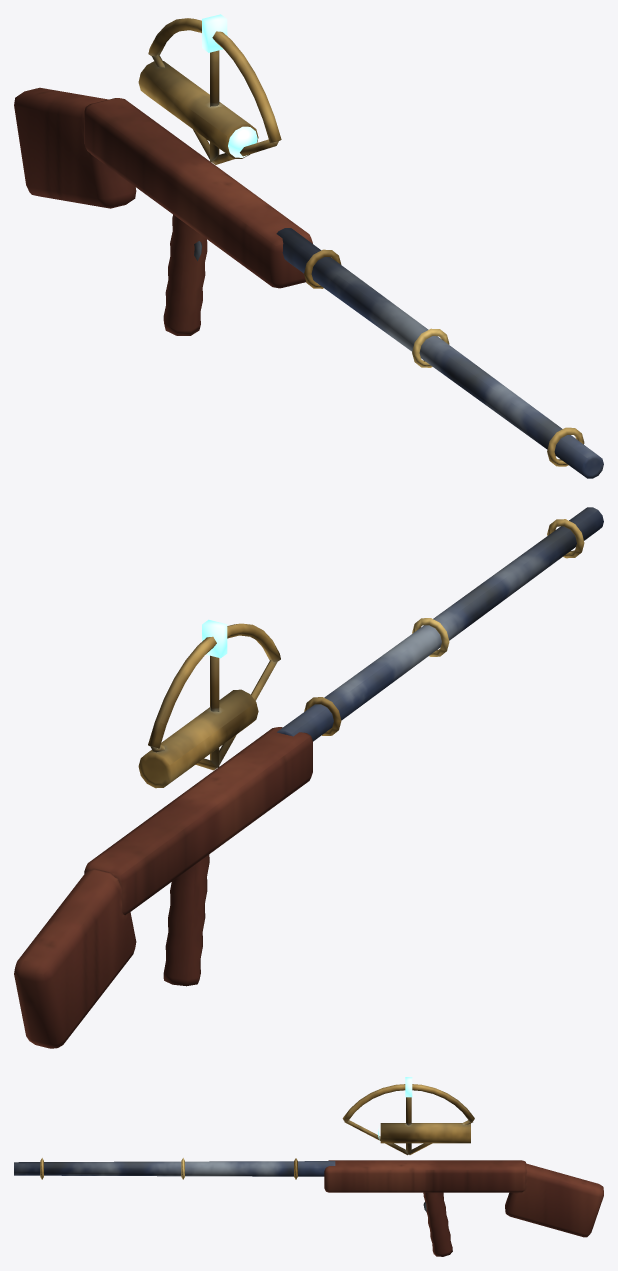
The model's file is SextantSniper.fbx.
3 views of the same model, one above another, from view 1: azimuth 30°, elevation 25°; view 2: azimuth 150°, elevation 25°; view 3: azimuth 270°, elevation 25° (orthographic). The views are drawn at different scales.
Visible parts, largest first — view 1: SextantSniper; view 2: SextantSniper; view 3: SextantSniper.
Part boxes in pixels (x1,y1,x2,y2): SextantSniper: [14, 14, 603, 478]; SextantSniper: [14, 507, 603, 1048]; SextantSniper: [14, 1077, 603, 1256].
Bounding box in the file's own units: 0.045 × 0.3417 × 1.05.
